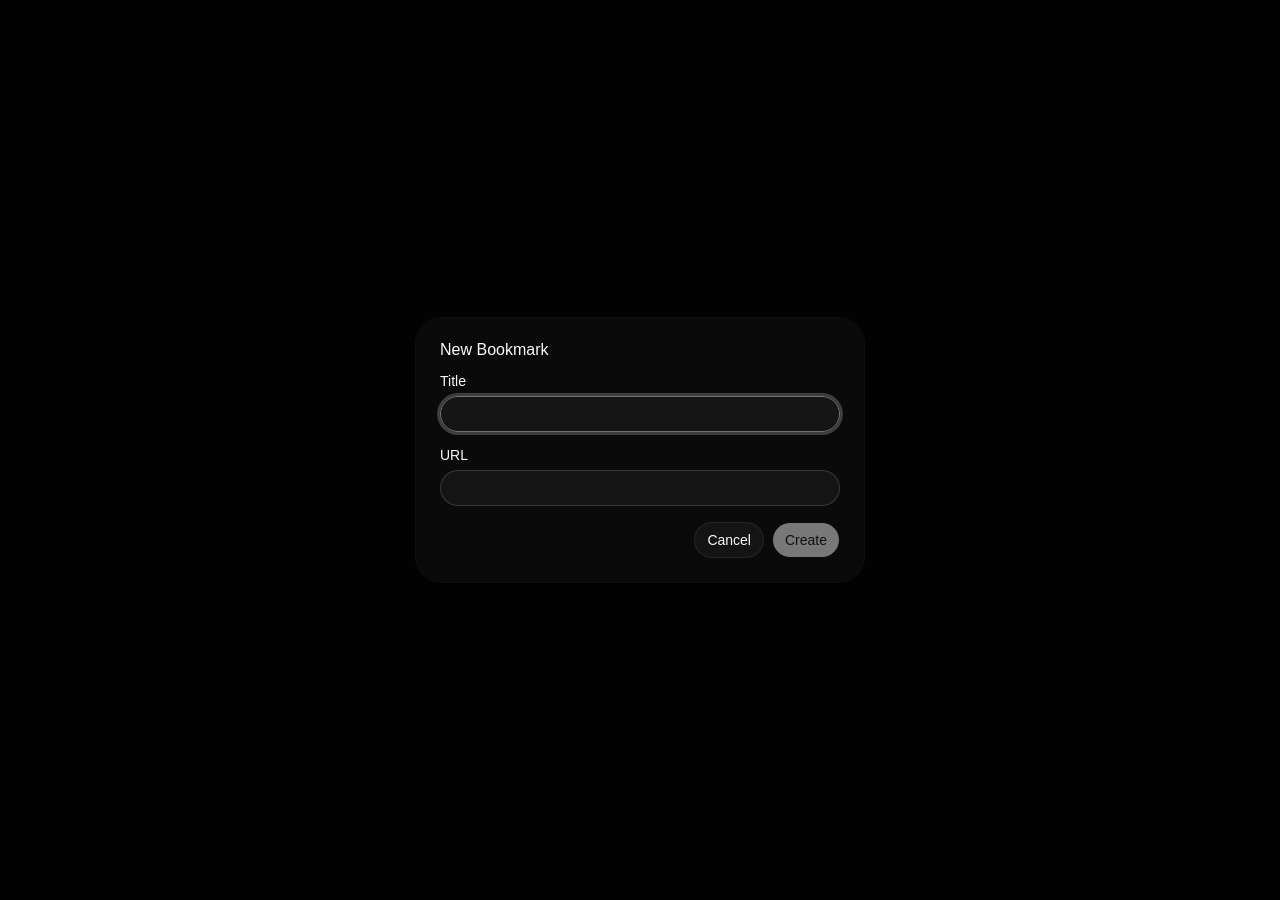
Test case: BookmarkOrganizerCreateDialog › keeps Create disabled for a bookmark until both fields are filled
Type "Title only" into the field labelled "Title" at (640, 414), box [440, 396, 840, 432]
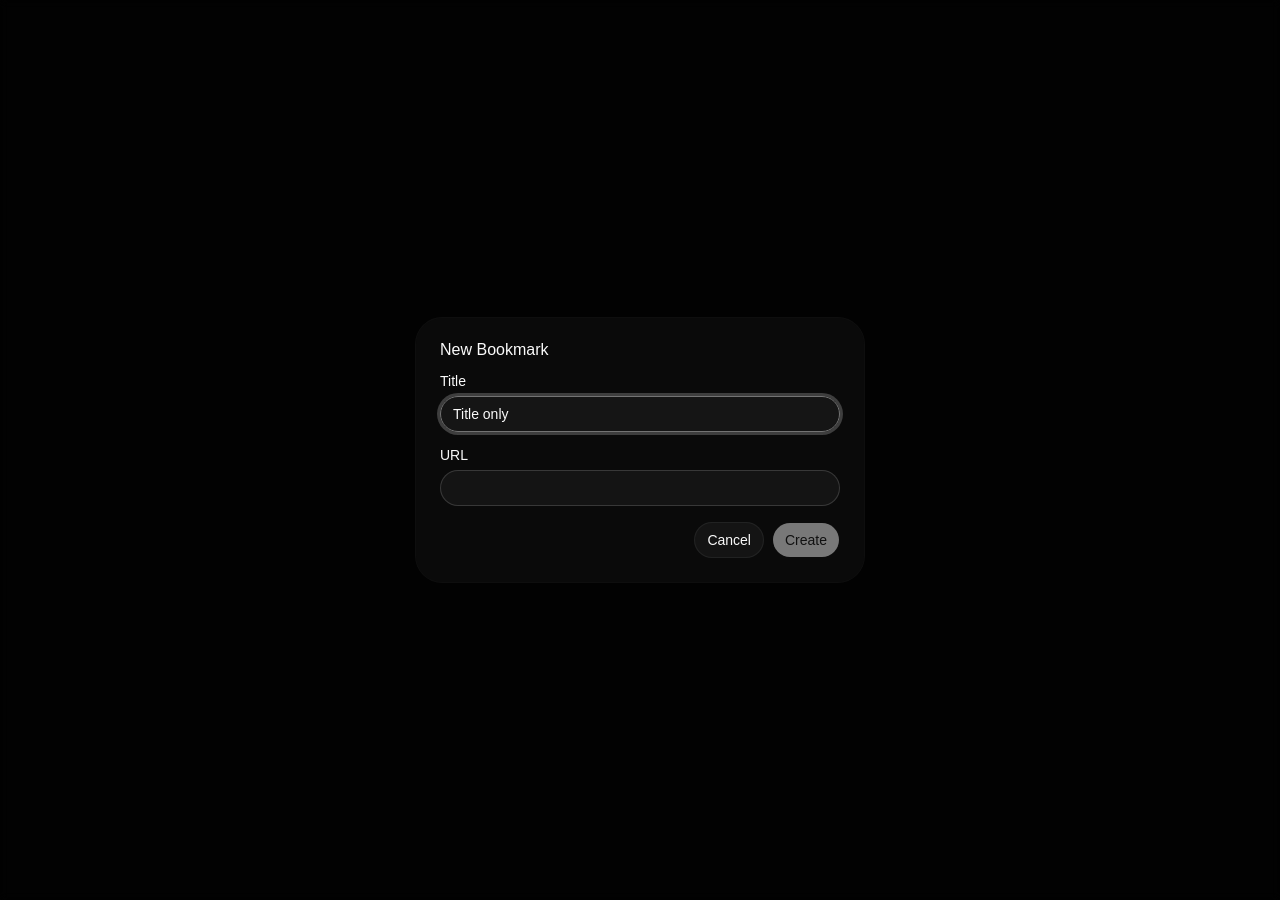
Expected: the button "Create" is disabled, [772, 522, 840, 558]
Type "https://example.com" into the field labelled "URL" at (640, 488), box [440, 470, 840, 506]
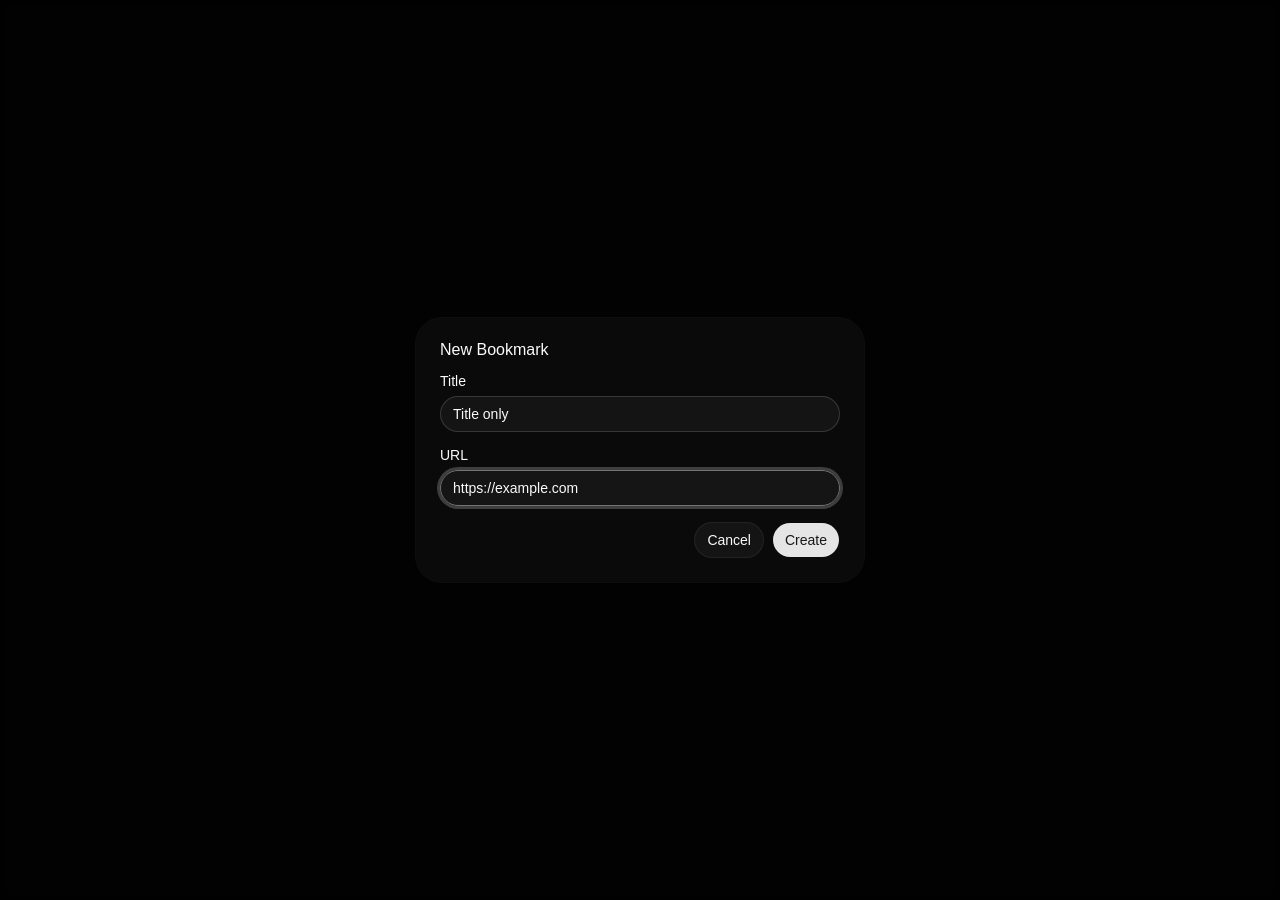
Now the button "Create" is enabled, box [772, 522, 840, 558]
